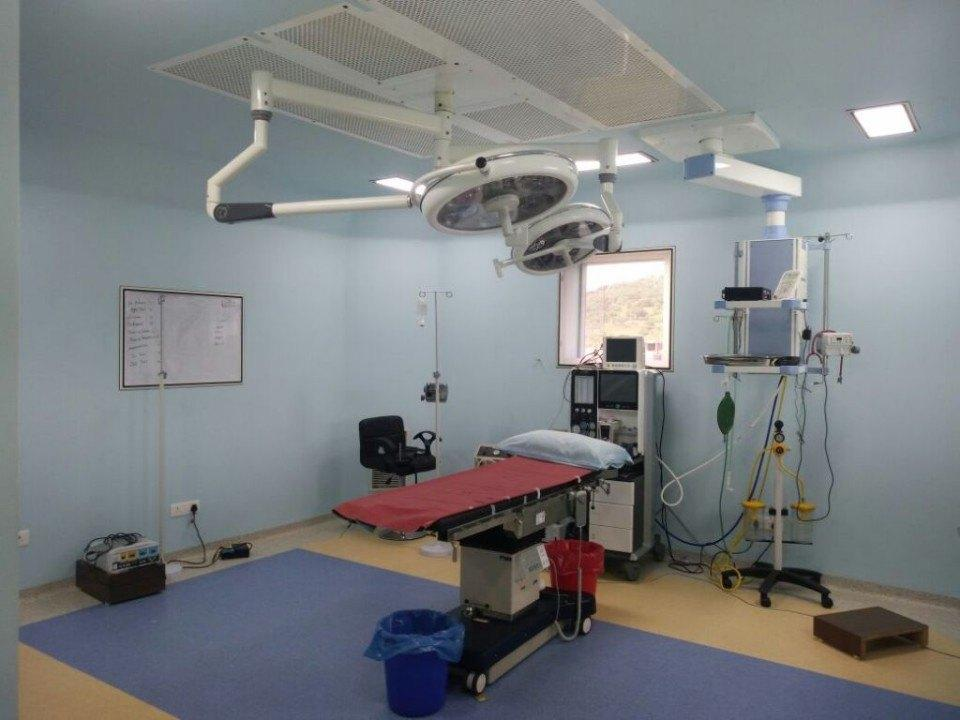Monitor: (593, 321, 642, 374)
Saline Stand: (393, 255, 455, 563)
bed: (341, 428, 619, 708)
bin: (371, 591, 466, 719), (555, 523, 606, 638)
chair: (351, 383, 440, 524)
